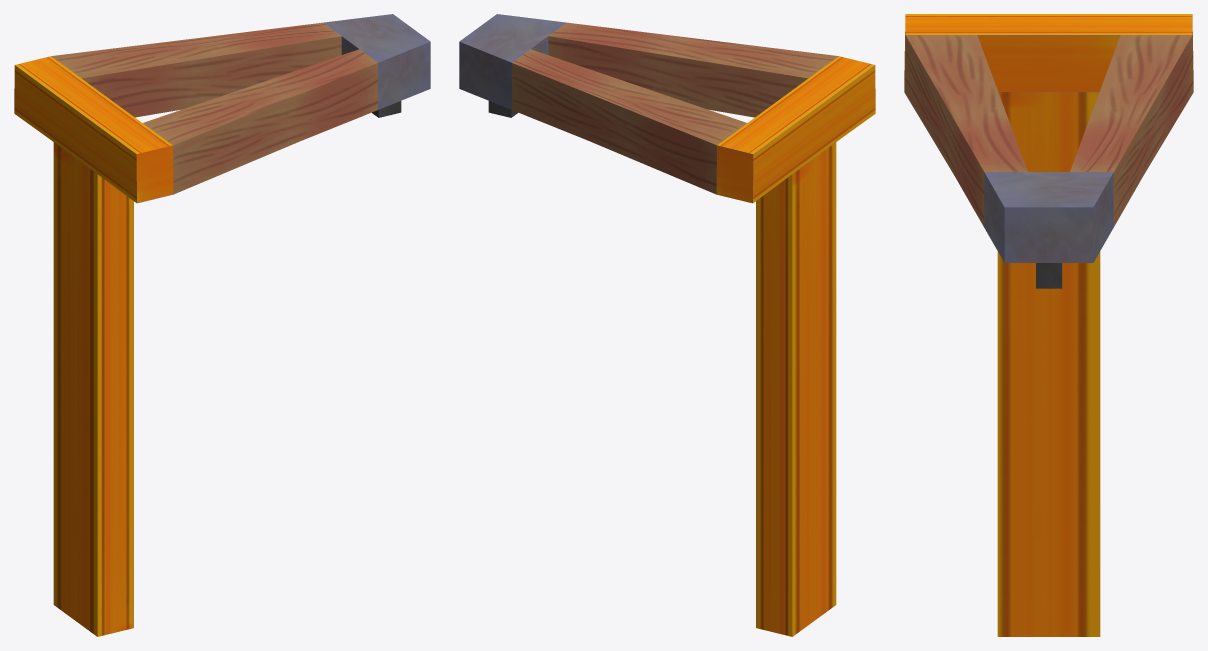
File: construGrapp.fbx
The picture shows the model from 3 angles, left to right: view 1: azimuth 30°, elevation 25°; view 2: azimuth 150°, elevation 25°; view 3: azimuth 270°, elevation 25°; orthographic projection. The views are drawn at different scales.
Visible parts, largest first — view 1: grappConstruc; view 2: grappConstruc; view 3: grappConstruc.
Part boxes in pixels (<box>): grappConstruc: <box>14,14,430,636</box>; grappConstruc: <box>459,14,875,636</box>; grappConstruc: <box>904,14,1193,636</box>.
Size of the model in its own units: 1849 by 2687 by 1169.
Materials: 1 (1 with a texture image).
